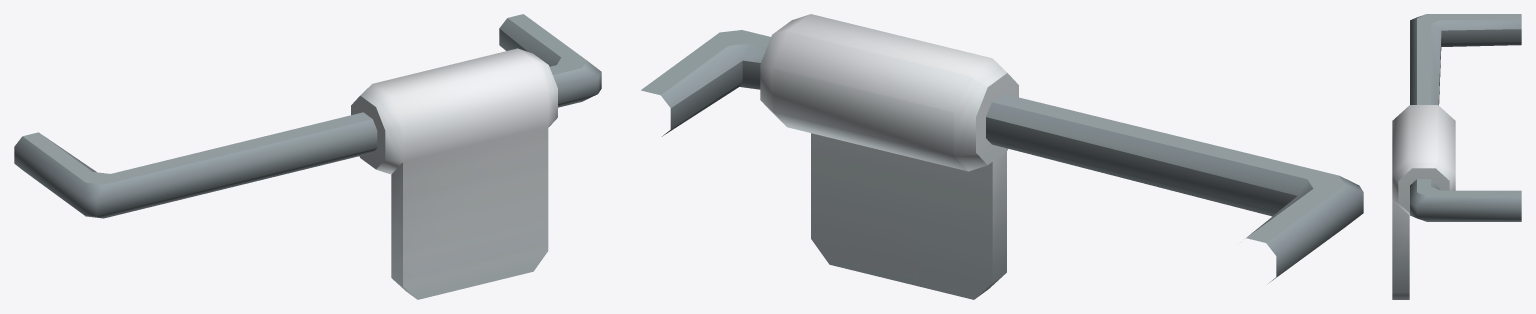
File: kkr.towelrail.glb
3 renders of one model, left to right at view 1: azimuth 30°, elevation 25°; view 2: azimuth 150°, elevation 25°; view 3: azimuth 270°, elevation 25°, orthographic. The views are drawn at different scales.
Parts seen in each view (by area): view 1: towelrail; view 2: towelrail; view 3: towelrail.
Boxes of the visible parts, x1=… form: towelrail: x1=14, y1=14, x2=601, y2=299; towelrail: x1=641, y1=14, x2=1363, y2=299; towelrail: x1=1392, y1=14, x2=1521, y2=299.
Size of the model in its own units: 1.19 by 0.4343 by 0.3452.
1 material, 1 textured.
